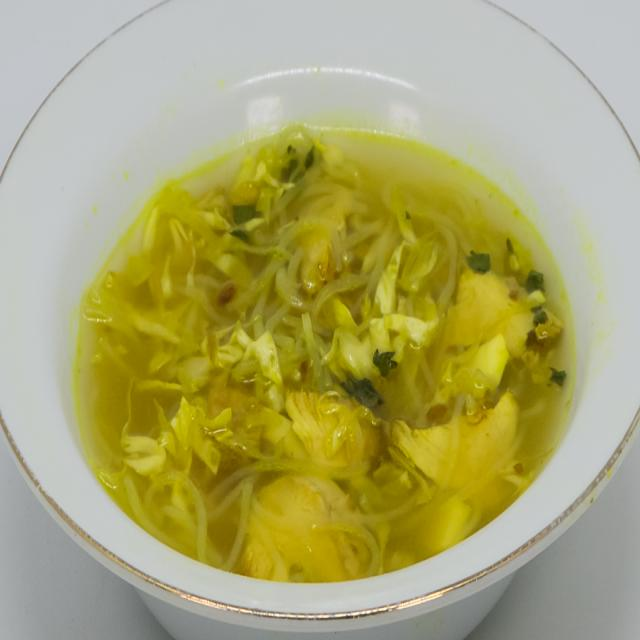Soto-Lamongan: (49, 102, 584, 591)
